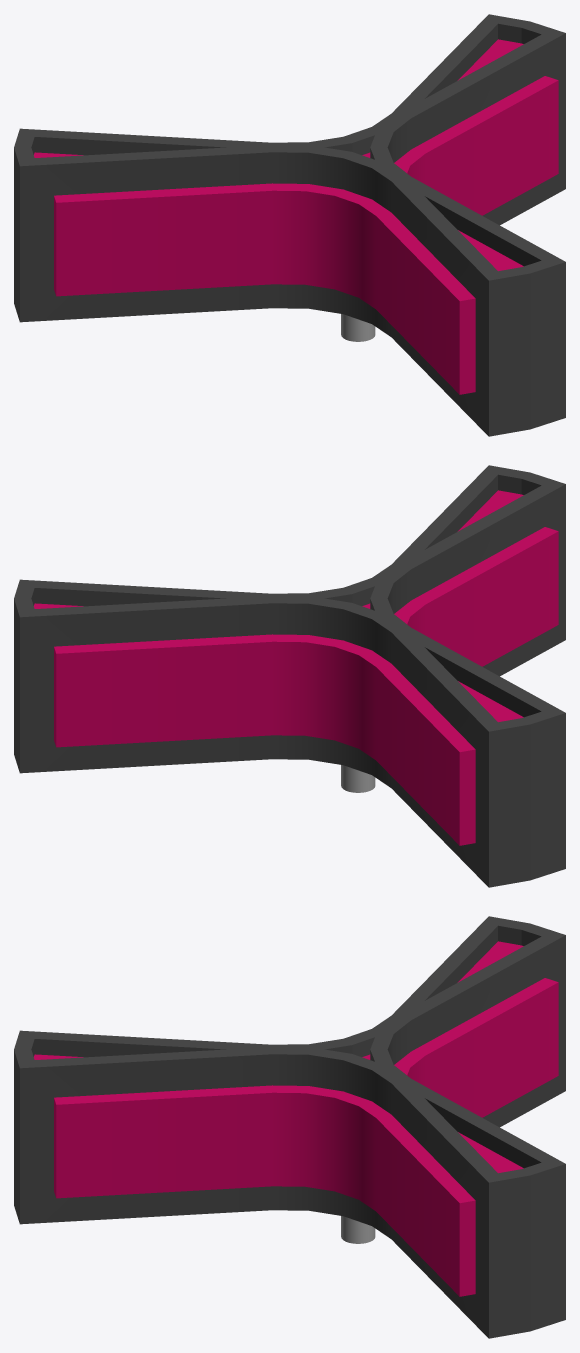
Rendered from Spinner_3.fbx.
The picture shows the model from 3 angles, top to bottom: view 1: azimuth 30°, elevation 25°; view 2: azimuth 150°, elevation 25°; view 3: azimuth 270°, elevation 25°; orthographic projection.
Visible parts, largest first — view 1: Spinner_3; view 2: Spinner_3; view 3: Spinner_3.
Boxes of the visible parts, x1,y1,x2,y2 form: Spinner_3: (14,14,565,436); Spinner_3: (14,465,565,887); Spinner_3: (14,916,565,1338).
Size of the model in its own units: 18.32 by 6 by 16.04.
